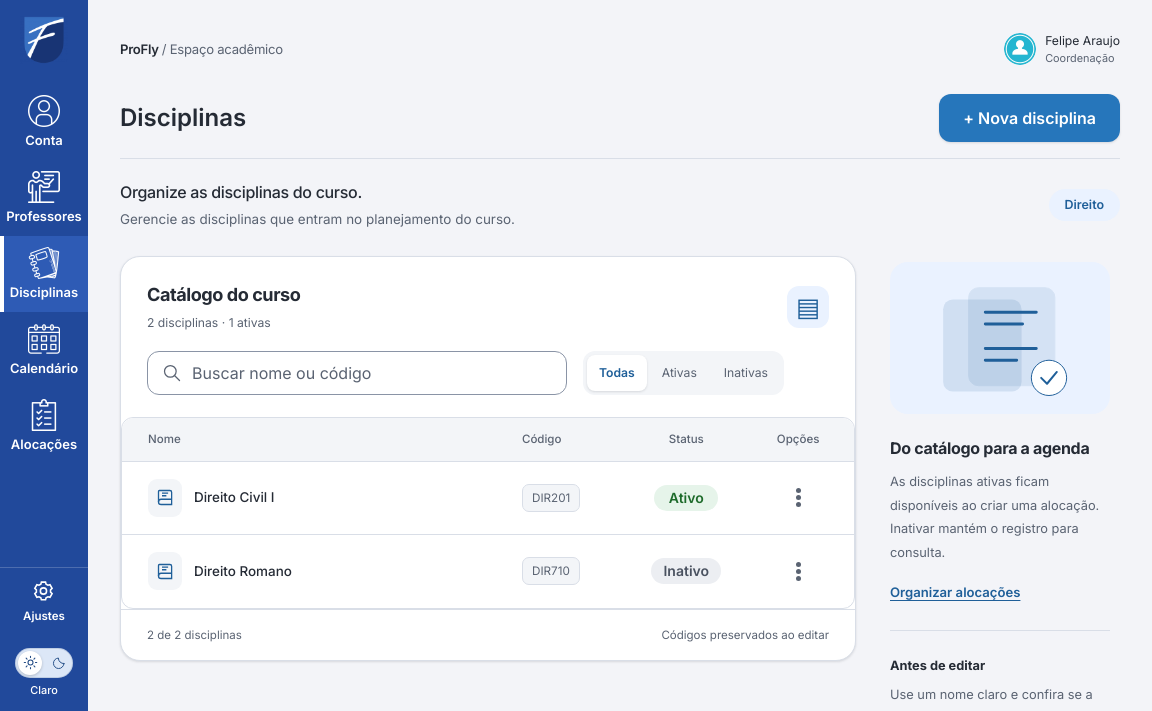
Test: Disciplinas › geração automática do código › considera disciplinas inativas e não reaproveita números vagos
Expected: the text "Direito Civil I" is shown, [148, 479, 274, 517]
Click the button "+ Nova disciplina": (1030, 118) [939, 94, 1120, 142]
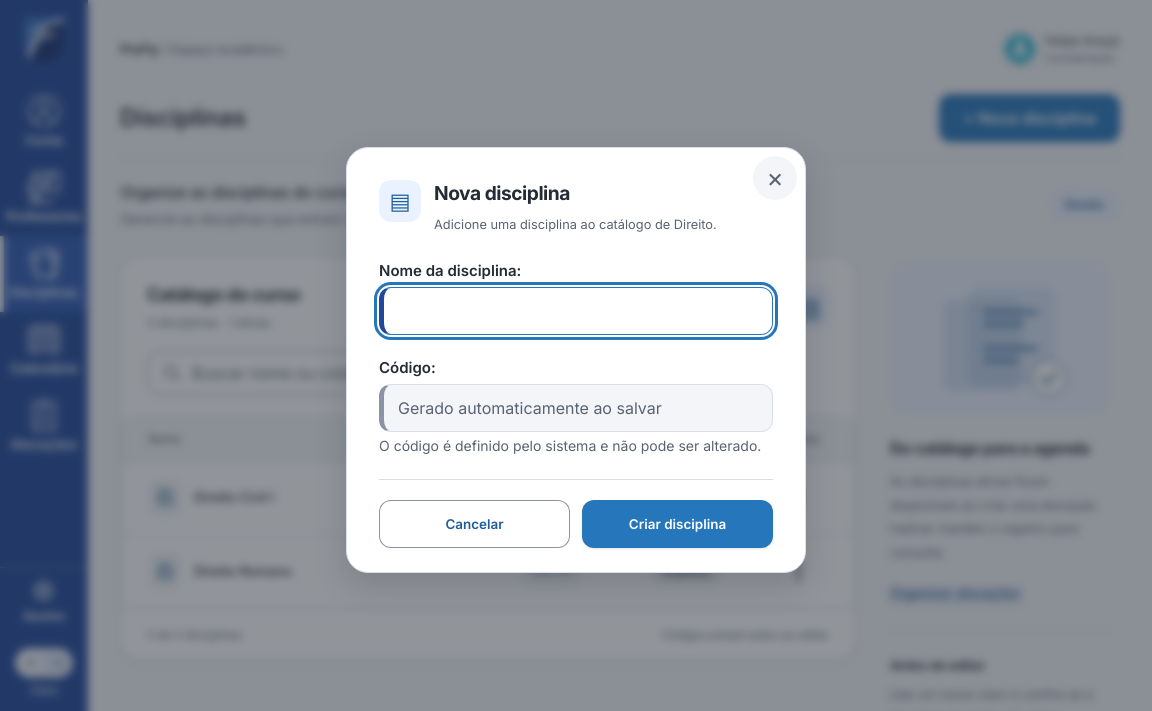
In the field labelled "Nome da disciplina:": (578, 310) [384, 288, 772, 334], type "Direito Digital"
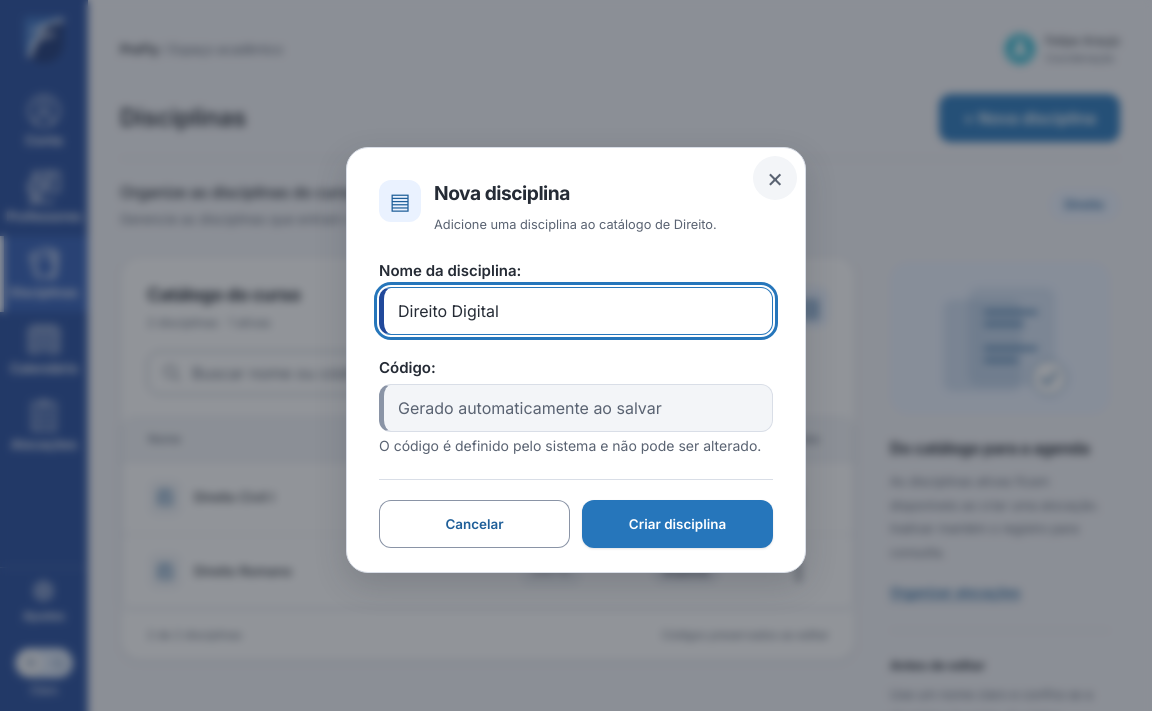
Click the button "Criar disciplina": (678, 524) [582, 500, 773, 548]
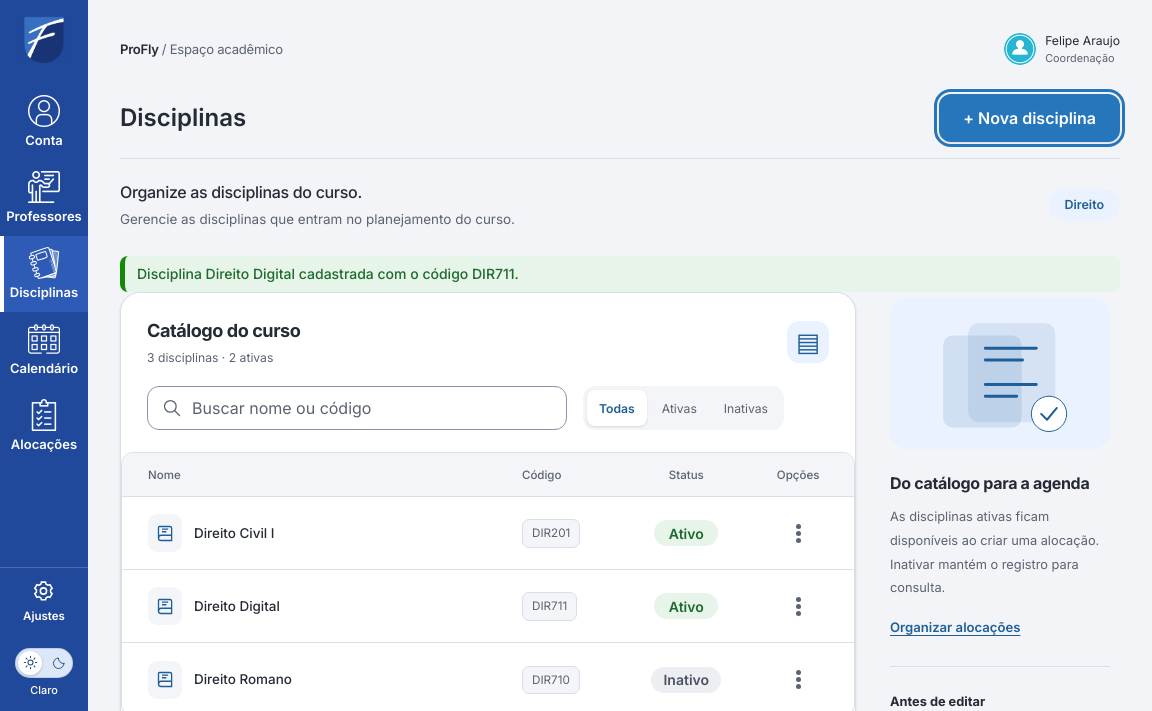
Now the text "DIR711" is shown, box [522, 592, 577, 621]
